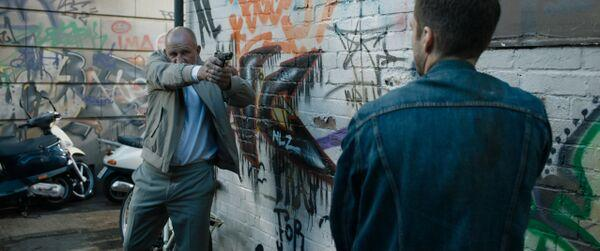Gun: (214, 50, 234, 63)
